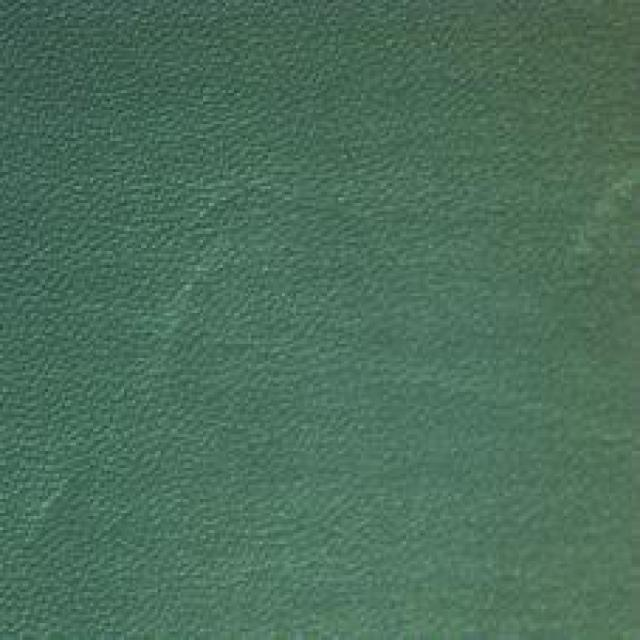Growth Marks: (138, 192, 274, 383), (22, 453, 128, 568)
